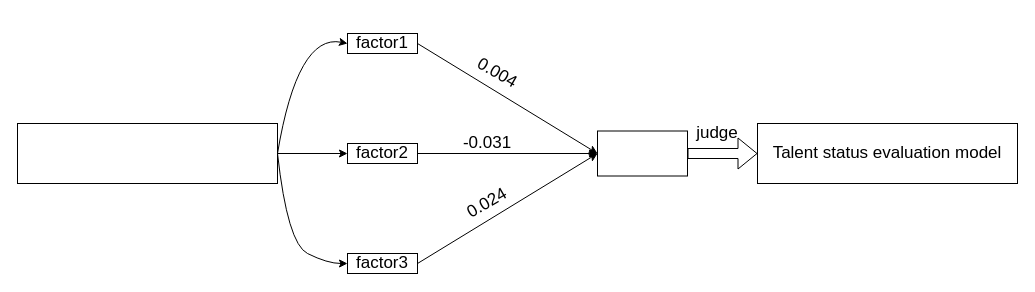
This 1035x292 diagram has some shape labels left out. Here are the shapes that lost their labels. From the top down, the centre of each, then its label:
At (147,153): "Talent attraction evaluation model".
At (642,153): "critical factor".
